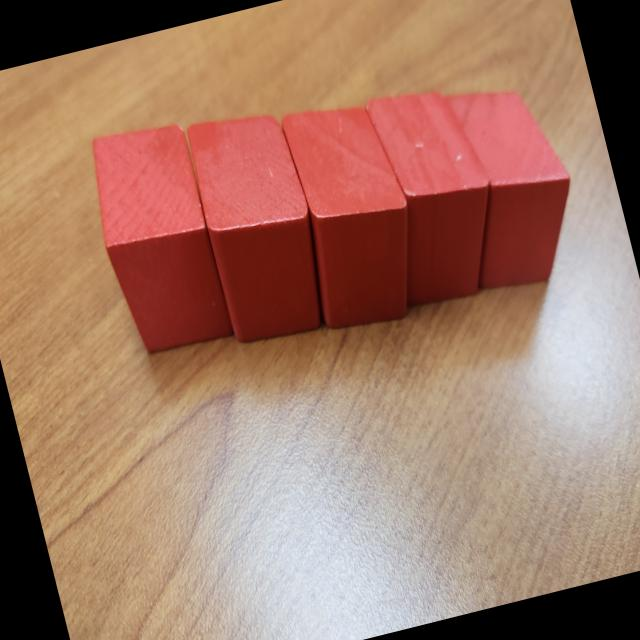red: (77, 115, 239, 363), (274, 90, 434, 336), (182, 100, 338, 347), (356, 73, 516, 310), (430, 70, 593, 298)
